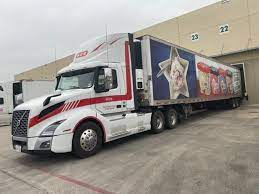truck: (9, 32, 242, 159)
